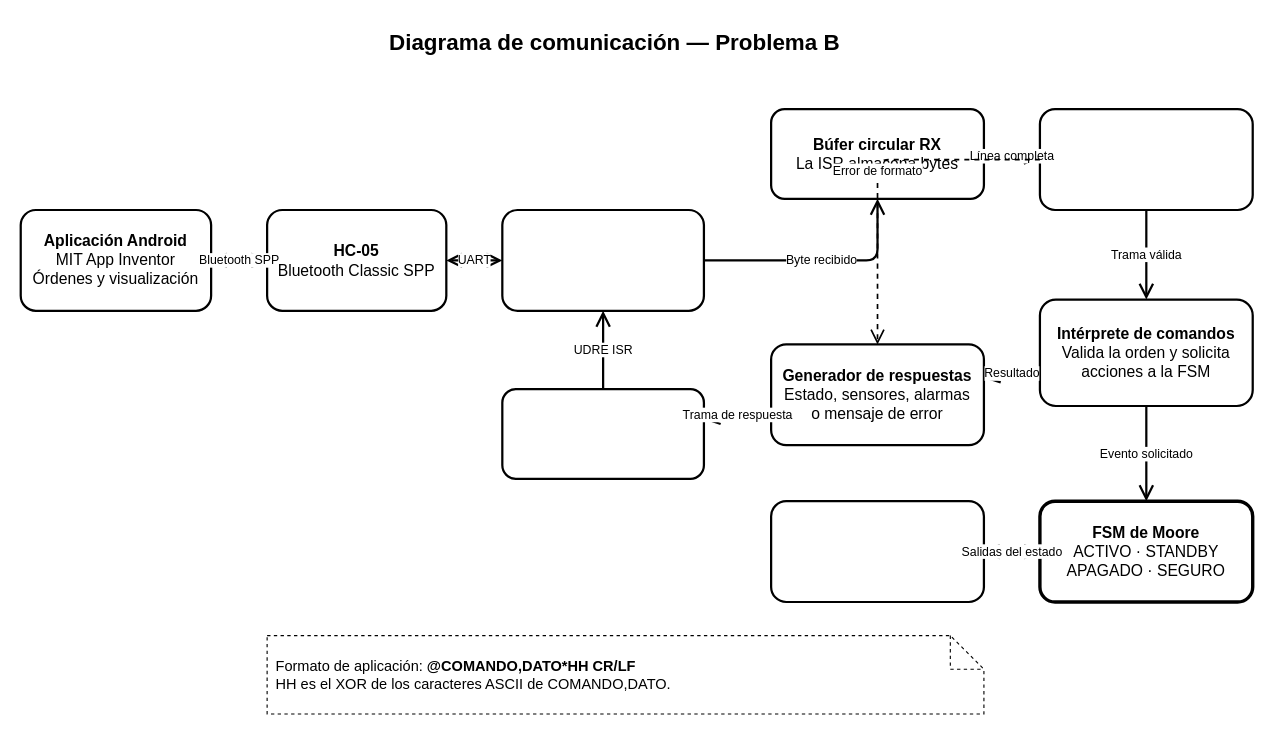
This 1273x734 diagram has some shape labels left out. The box of each missing label's shape, as (x1, y1, x2, y2) in pixels:
Búfer circular TX La ISR transmite bytes: (501, 388, 704, 479)
Receptor de tramas Inicio, CR/LF, formato y checksum XOR: (1038, 108, 1253, 211)
Sensores y actuadores ADC, DHT11, LCD, LED, sounder, PRR, Sleep y WDT: (769, 500, 984, 603)
USART0 9600 bit/s, 8N1 RX/TX por interrupciones: (501, 208, 704, 311)
